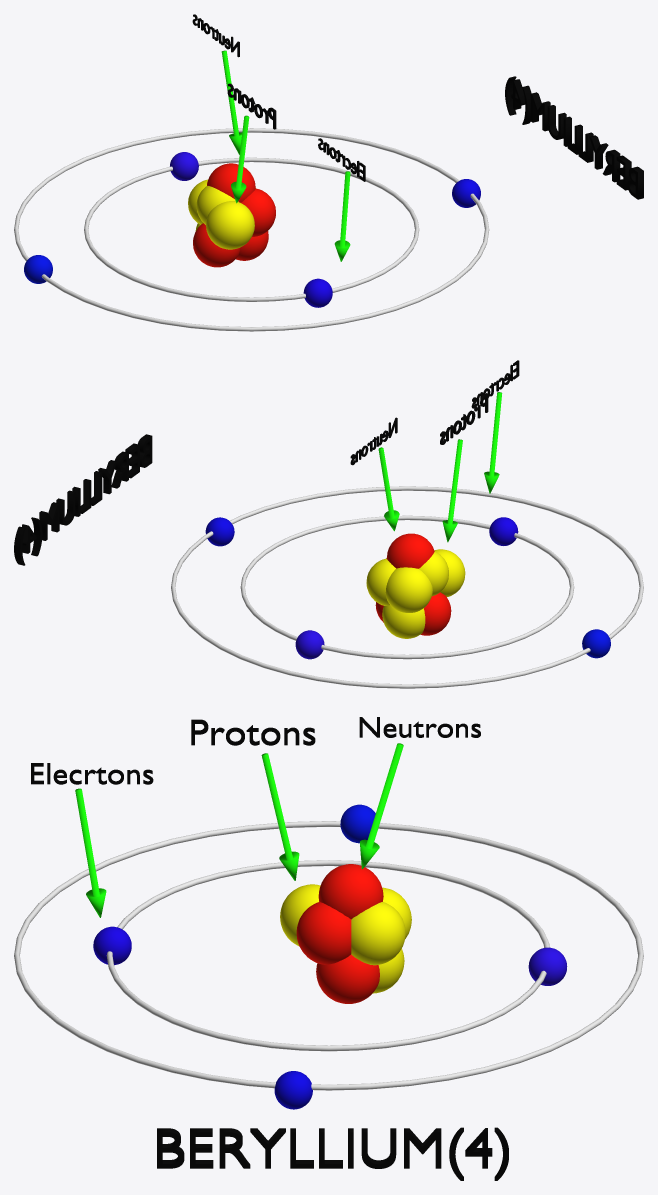
File: Beryllium Atomic Model .gltf
3 views of the same model, one above another, from view 1: azimuth 30°, elevation 25°; view 2: azimuth 150°, elevation 25°; view 3: azimuth 270°, elevation 25° (orthographic). The views are drawn at different scales.
Parts seen in each view (by area): view 1: Sphere.004, Torus.001, Text.003, Torus, Sphere.009, Sphere.010, Sphere.012, Sphere.011, Text.001, Cylinder.003, Cylinder.001, Cylinder.000 (+2 smaller); view 2: Sphere.004, Torus.001, Text.003, Torus, Cylinder.000, Sphere.010, Sphere.009, Cylinder.003, Sphere.012, Sphere.011, Text.001, Cylinder.001 (+2 smaller); view 3: Sphere.004, Torus.001, Text.003, Torus, Text.001, Sphere.011, Text, Sphere.009, Sphere.010, Cylinder.000, Cylinder.001, Cylinder.003 (+2 smaller).
Part boxes in pixels (box(x1,y1,x2,y2)): Sphere.004: box(188, 163, 275, 267); Torus.001: box(14, 128, 489, 331); Text.003: box(505, 76, 643, 199); Torus: box(84, 157, 419, 301); Sphere.009: box(303, 278, 332, 307); Sphere.010: box(170, 152, 198, 180); Sphere.012: box(24, 255, 52, 283); Sphere.011: box(452, 179, 480, 207); Text.001: box(227, 83, 276, 129); Cylinder.003: box(334, 171, 350, 261); Cylinder.001: box(221, 50, 242, 154); Cylinder.000: box(231, 115, 249, 203); Sphere.004: box(366, 533, 465, 638); Torus.001: box(171, 486, 643, 688); Text.003: box(14, 434, 152, 565); Torus: box(240, 515, 574, 659); Cylinder.000: box(442, 439, 462, 542); Sphere.010: box(295, 630, 324, 659); Sphere.009: box(489, 517, 518, 545); Cylinder.003: box(484, 392, 502, 493); Sphere.012: box(582, 629, 610, 658); Sphere.011: box(205, 517, 234, 546); Text.001: box(440, 393, 488, 444); Cylinder.001: box(378, 447, 399, 531); Sphere.004: box(280, 864, 411, 1003); Torus.001: box(14, 821, 643, 1090); Text.003: box(157, 1127, 508, 1180); Torus: box(106, 860, 549, 1051); Text.001: box(191, 719, 315, 745); Sphere.011: box(274, 1071, 312, 1109); Text: box(31, 763, 153, 784); Sphere.009: box(93, 926, 131, 965); Sphere.010: box(528, 947, 567, 985); Cylinder.000: box(261, 753, 299, 880); Cylinder.001: box(359, 743, 403, 869); Cylinder.003: box(75, 788, 106, 917).
Size of the model in its own units: 11.26 by 4.24 by 8.56.
